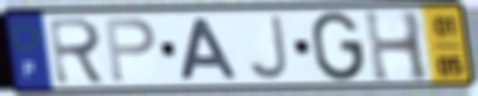A: (177, 16, 241, 82)
G: (310, 9, 368, 84)
H: (361, 8, 433, 85)
J: (244, 13, 291, 83)
P: (101, 16, 158, 85)
R: (46, 15, 110, 87)
